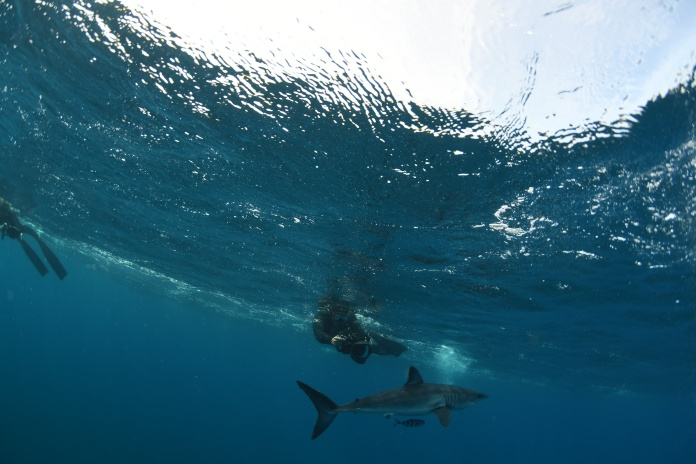Mako: (294, 358, 493, 444)
